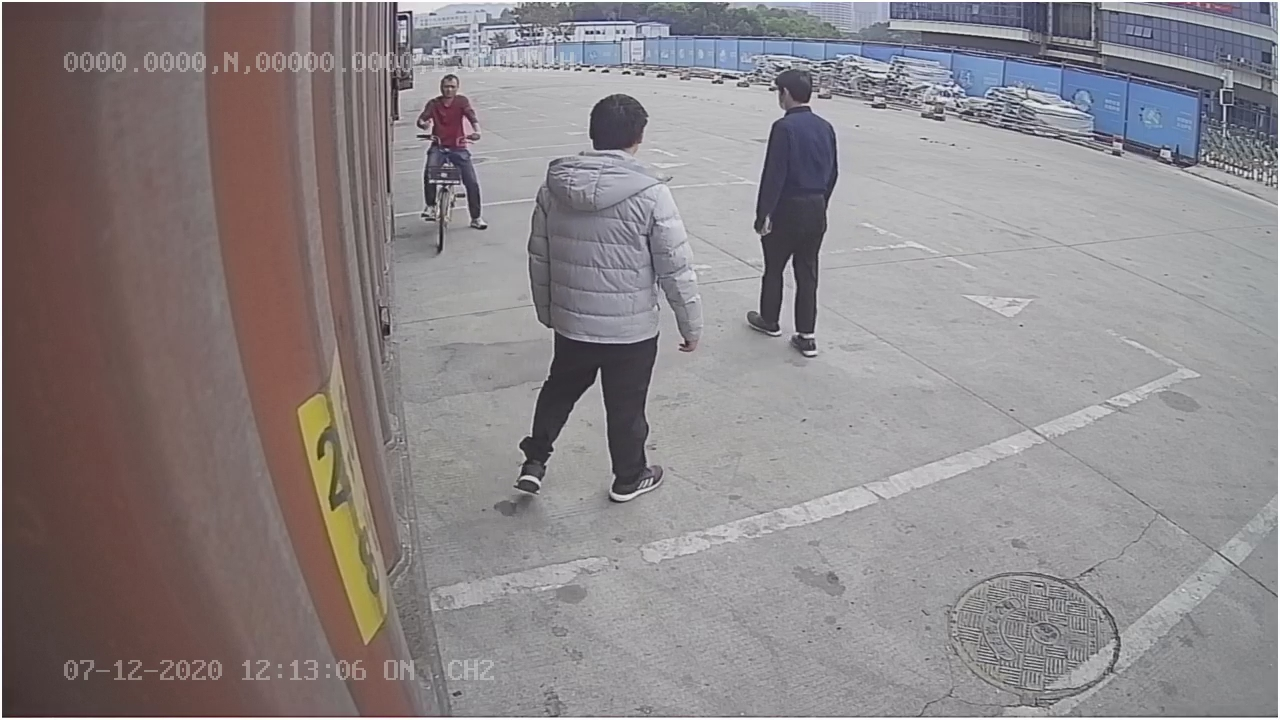person: (515, 92, 705, 505), (747, 66, 842, 356)
